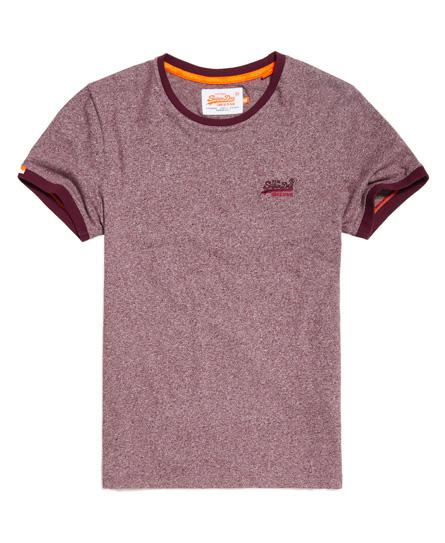teeshirt: (14, 46, 437, 521)
